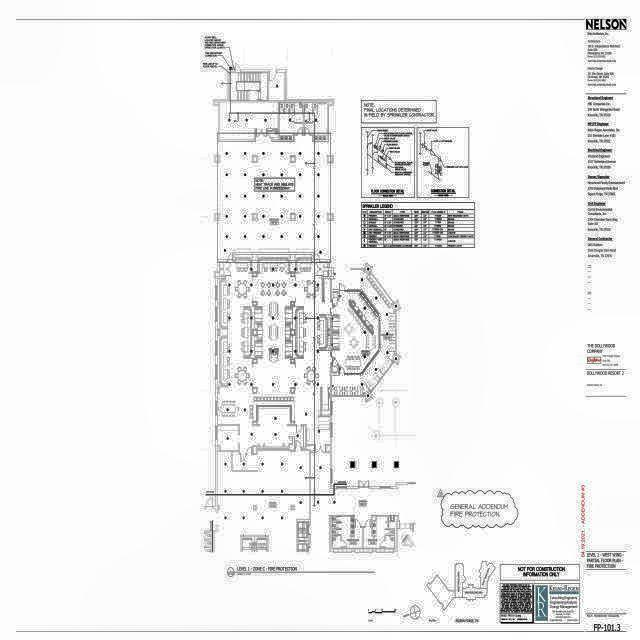room: (217, 255, 330, 454), (331, 291, 379, 373), (220, 102, 278, 140), (304, 103, 327, 140), (279, 114, 303, 140), (269, 73, 286, 100), (295, 103, 303, 122), (304, 103, 312, 122), (313, 103, 318, 113), (273, 130, 278, 140), (332, 292, 338, 299), (332, 366, 338, 373), (280, 103, 284, 113), (285, 103, 289, 113), (290, 103, 294, 113)
